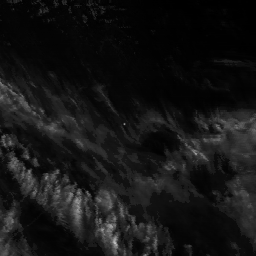Target: (122, 122, 127, 126)
